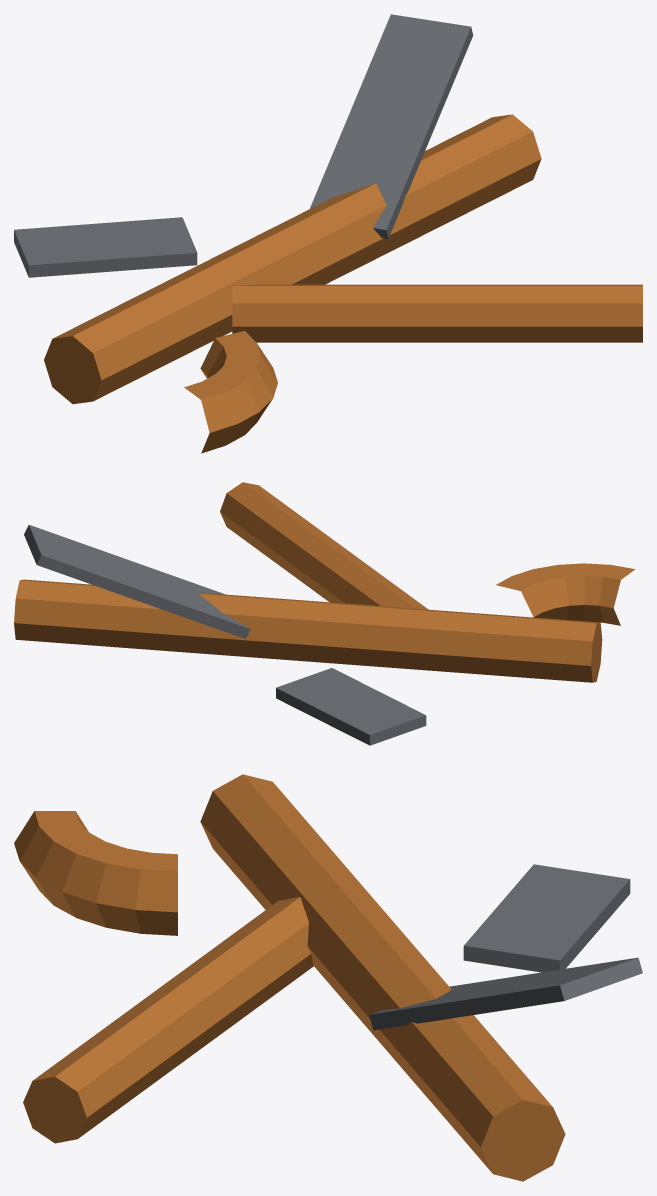
The model's file is scrap-metal.glb.
The picture shows the model from 3 angles, top to bottom: view 1: azimuth 30°, elevation 25°; view 2: azimuth 150°, elevation 25°; view 3: azimuth 270°, elevation 25°; orthographic projection. The views are drawn at different scales.
Parts seen in each view (by area): view 1: scrap_metal; view 2: scrap_metal; view 3: scrap_metal.
Part boxes in pixels (left/top/right/bottom): scrap_metal: left=14, top=14, right=642, bottom=453; scrap_metal: left=14, top=482, right=635, bottom=745; scrap_metal: left=14, top=774, right=642, bottom=1181.
Bounding box in the file's own units: 0.1955 × 0.0487 × 0.1534.
